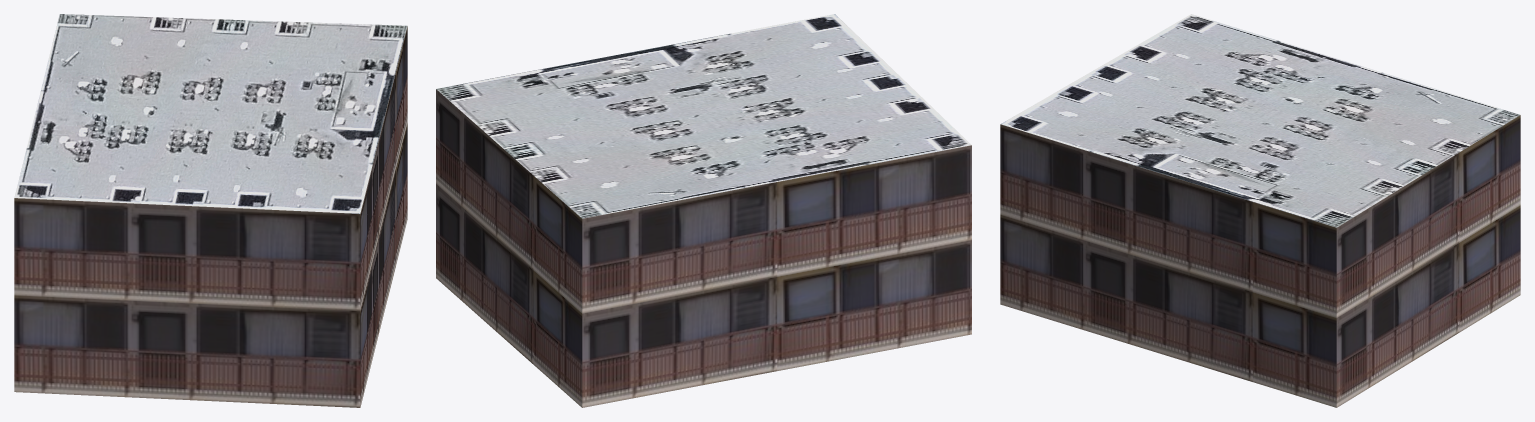
Rendered from ResTex__4843.fbx.
The picture shows the model from 3 angles, left to right: view 1: azimuth 30°, elevation 25°; view 2: azimuth 150°, elevation 25°; view 3: azimuth 270°, elevation 25°; orthographic projection. The views are drawn at different scales.
Parts seen in each view (by area): view 1: CityEngineMaterial_6_m, CityEngineMaterial_m; view 2: CityEngineMaterial_6_m, CityEngineMaterial_m; view 3: CityEngineMaterial_6_m, CityEngineMaterial_m.
Part boxes in pixels (x1,y1,x2,y2): CityEngineMaterial_6_m: (14,26,407,407); CityEngineMaterial_m: (14,14,407,213); CityEngineMaterial_6_m: (436,89,971,407); CityEngineMaterial_m: (436,14,971,218); CityEngineMaterial_6_m: (1000,115,1520,407); CityEngineMaterial_m: (1001,14,1519,227).
Size of the model in its own units: 15.25 by 6 by 15.69.
2 materials, 2 textured.
